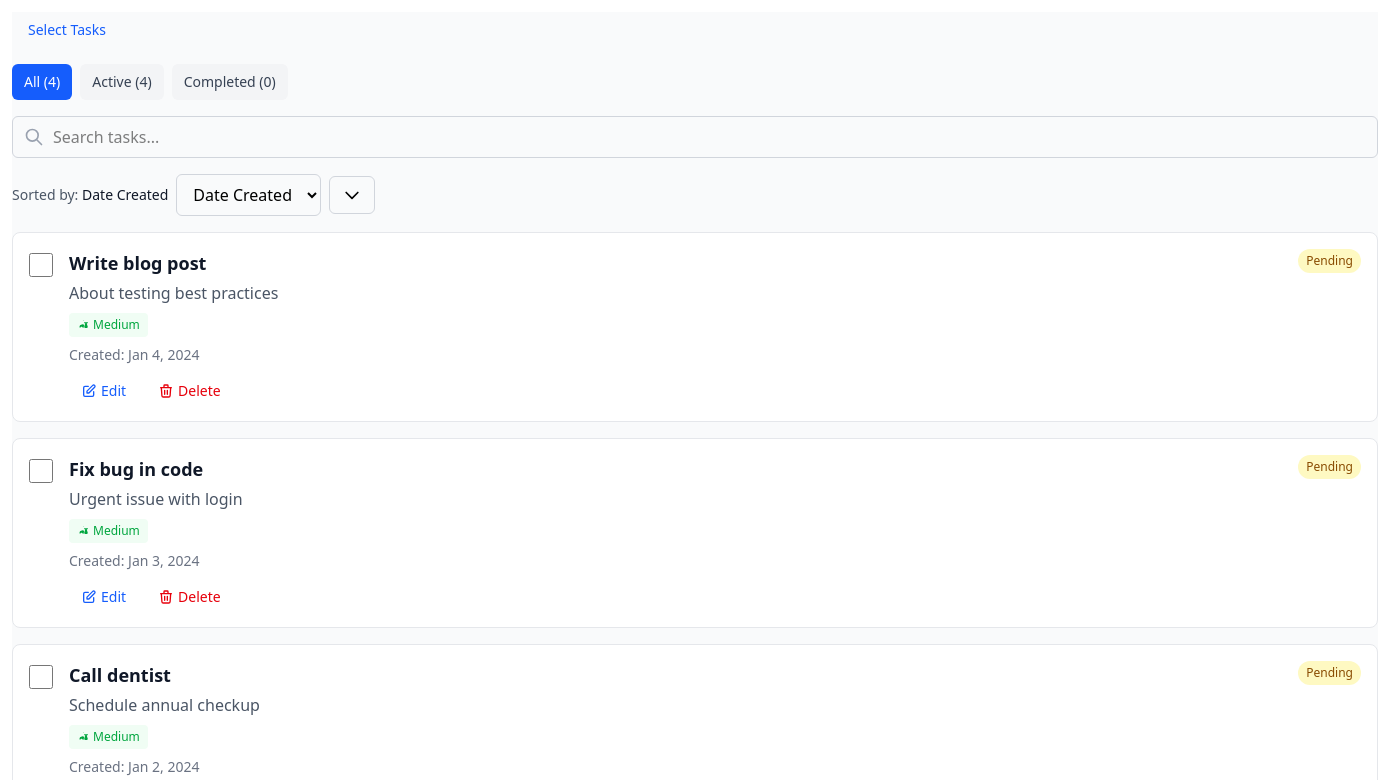
Test: User Story 2.4: Search Tasks UI › Clear Search Button › should render clear button when search has value
Type "test" into the search field.
click(695, 137); type("test")  # box [12,116,1378,158]
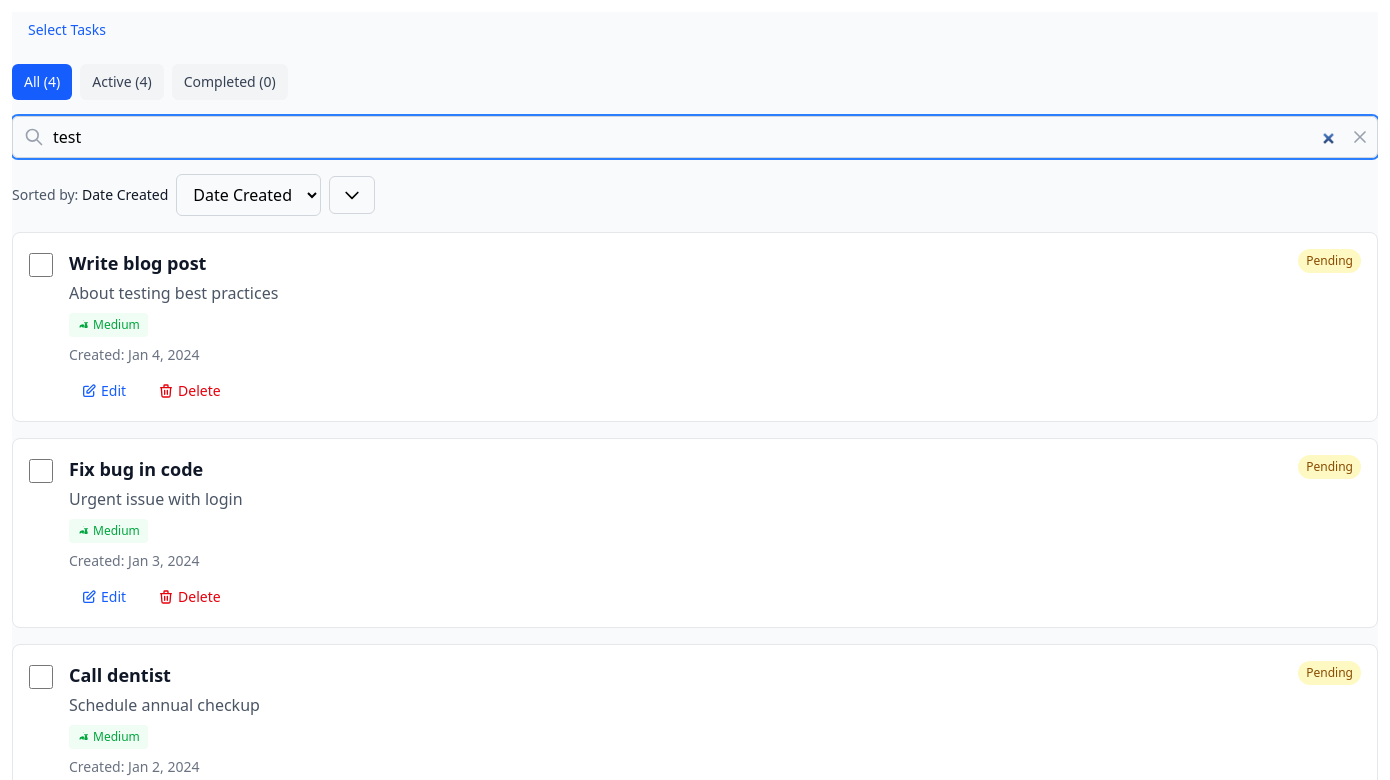
Expected: the button named "clear search" is shown, [1350,127,1370,147]
